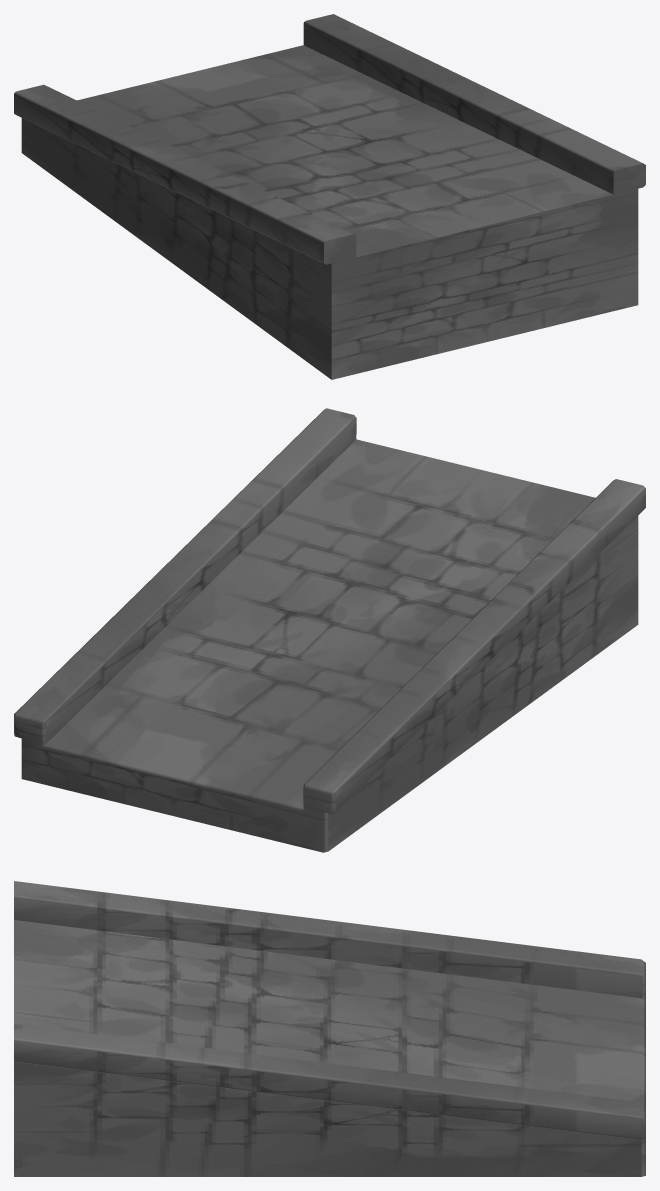
File: sliderroad.FBX
3 renders of one model, top to bottom at view 1: azimuth 30°, elevation 25°; view 2: azimuth 150°, elevation 25°; view 3: azimuth 270°, elevation 25°, orthographic.
Parts seen in each view (by area): view 1: 07 - Default; view 2: 07 - Default; view 3: 07 - Default.
Part boxes in pixels (left/top/right/bottom): 07 - Default: left=14, top=14, right=645, bottom=379; 07 - Default: left=14, top=408, right=645, bottom=852; 07 - Default: left=14, top=881, right=645, bottom=1176.
Size of the model in its own units: 299 by 124 by 502.
